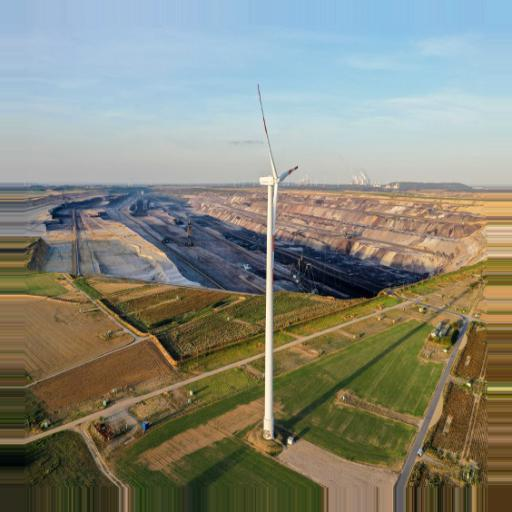wind turbine: (256, 82, 302, 438)
